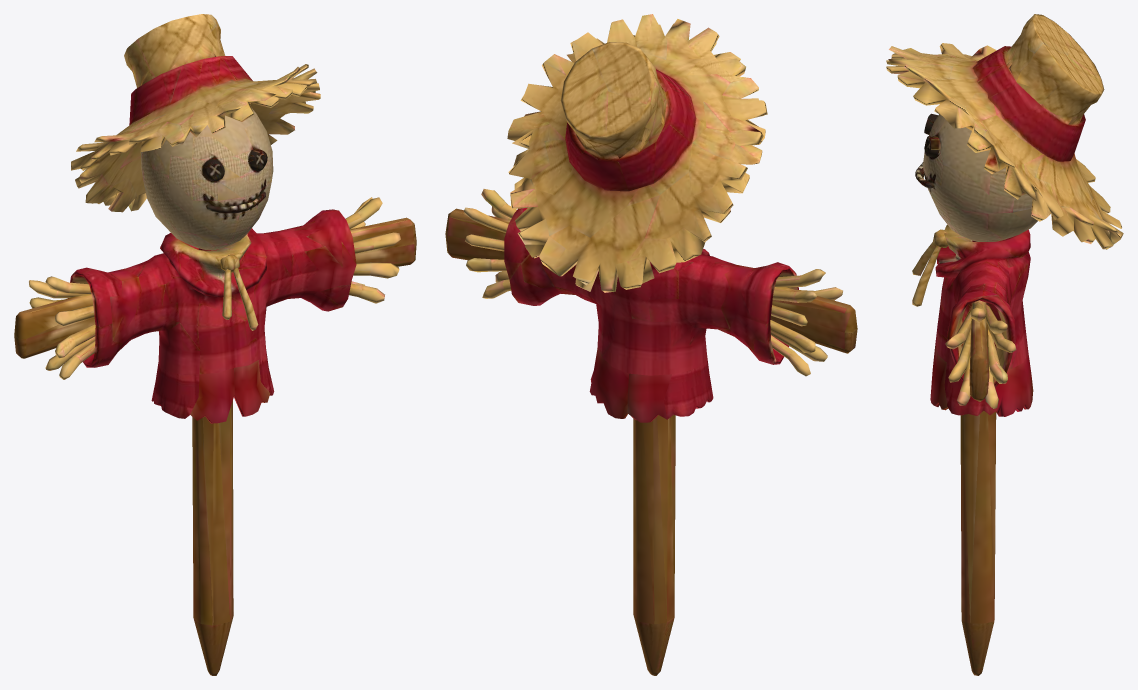
The model's file is scarecrow.glb.
3 renders of one model, left to right at view 1: azimuth 30°, elevation 25°; view 2: azimuth 150°, elevation 25°; view 3: azimuth 270°, elevation 25°, orthographic. The views are drawn at different scales.
Size of the model in its own units: 0.6525 by 1 by 0.3281.
1 material, 1 textured.
